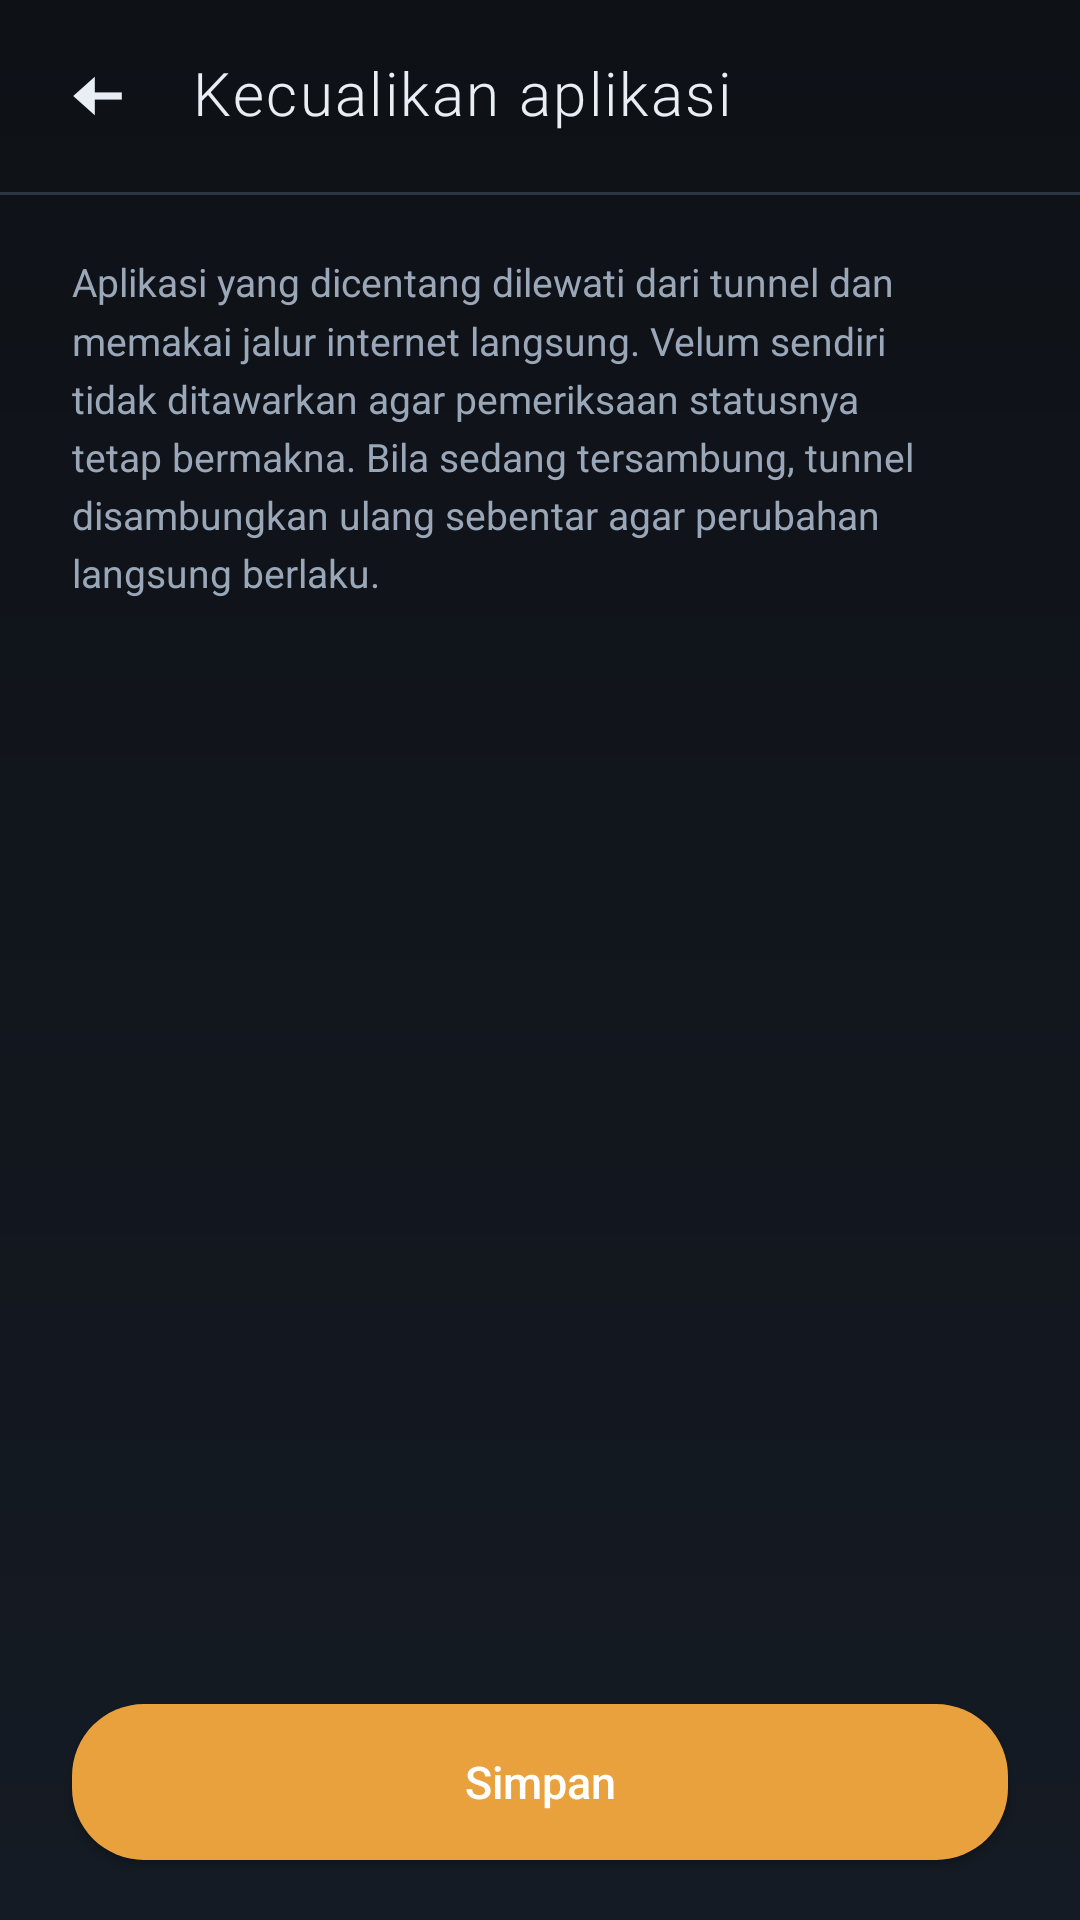

Where to tap for icons on this 1080*1920 app screen, as [x,y]:
Kembali: [97,96]
